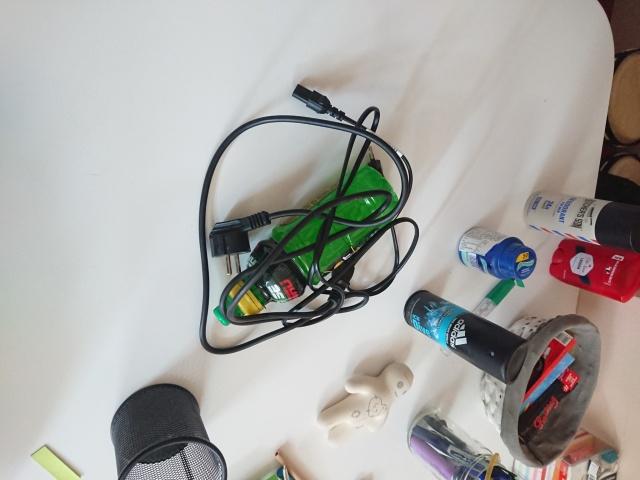Vindi Iso Sport Lemon-Grapefruit 500mL: (211, 162, 404, 329)
